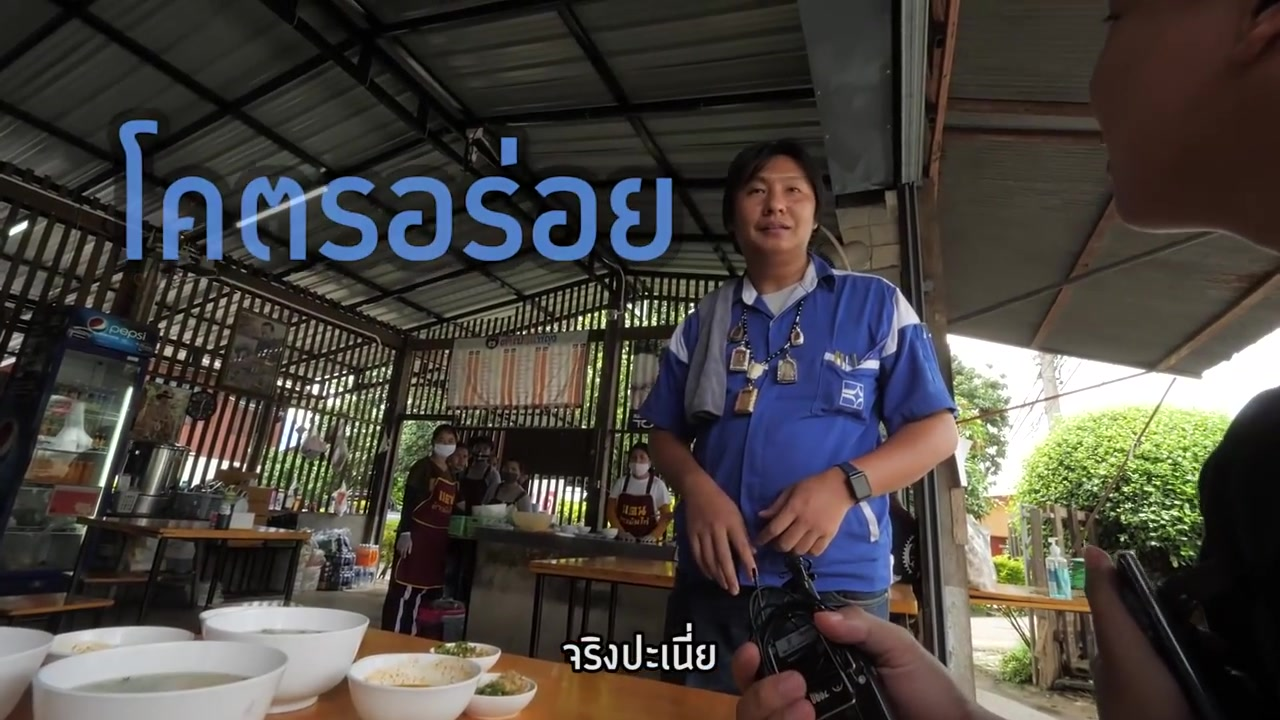text-label: (107, 104, 684, 275), (556, 620, 722, 678)
